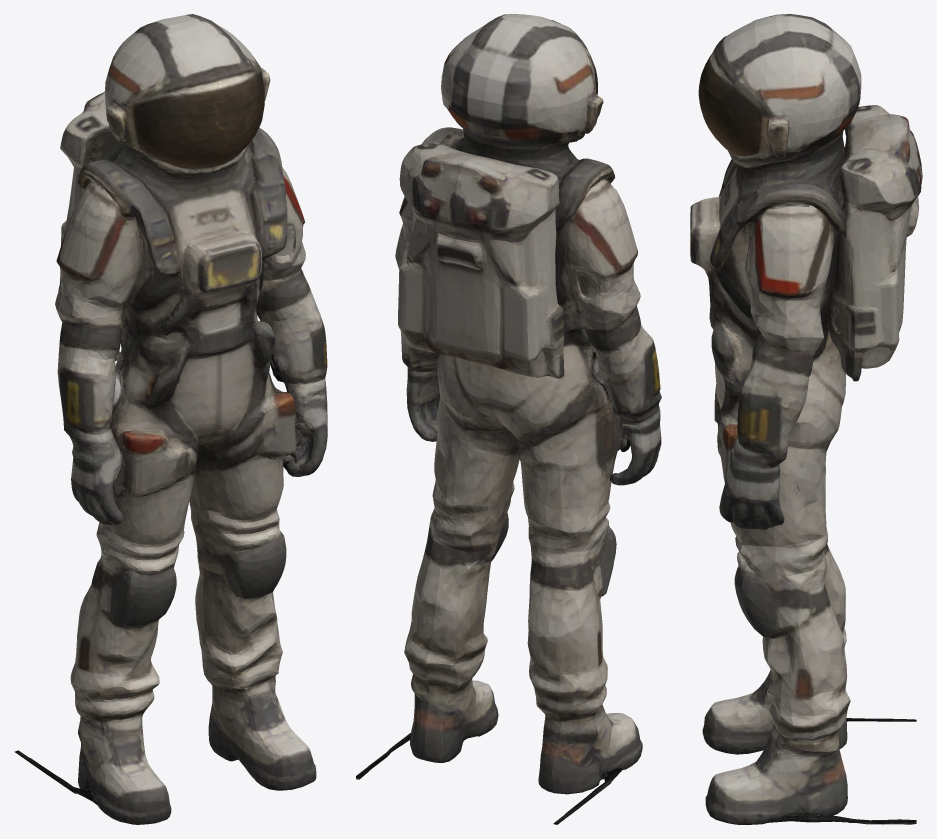
Rendered from astronaut_elena.glb.
The picture shows the model from 3 angles, left to right: view 1: azimuth 30°, elevation 25°; view 2: azimuth 150°, elevation 25°; view 3: azimuth 270°, elevation 25°; orthographic projection. The views are drawn at different scales.
Parts seen in each view (by area): view 1: geometry_0; view 2: geometry_0; view 3: geometry_0.
Part boxes in pixels (x1=…): geometry_0: x1=14, y1=14, x2=327, y2=824; geometry_0: x1=356, y1=14, x2=661, y2=824; geometry_0: x1=690, y1=14, x2=922, y2=824.
Size of the model in its own units: 0.3534 by 1 by 0.2793.
1 material, 1 textured.
